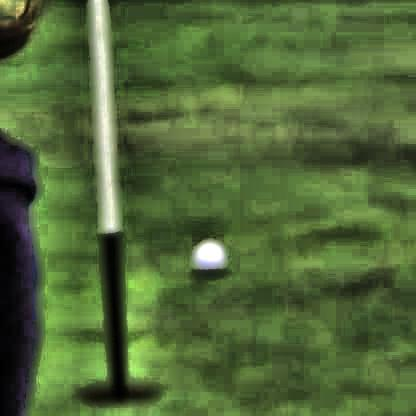golfball: (192, 243, 222, 271)
